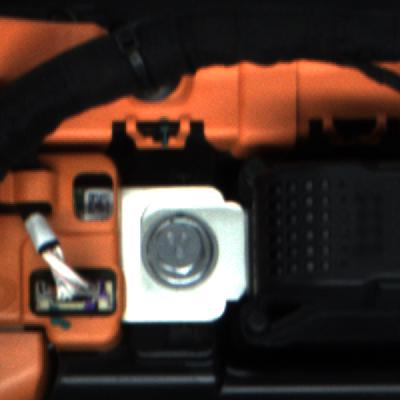nut_b: (136, 208, 223, 297)
